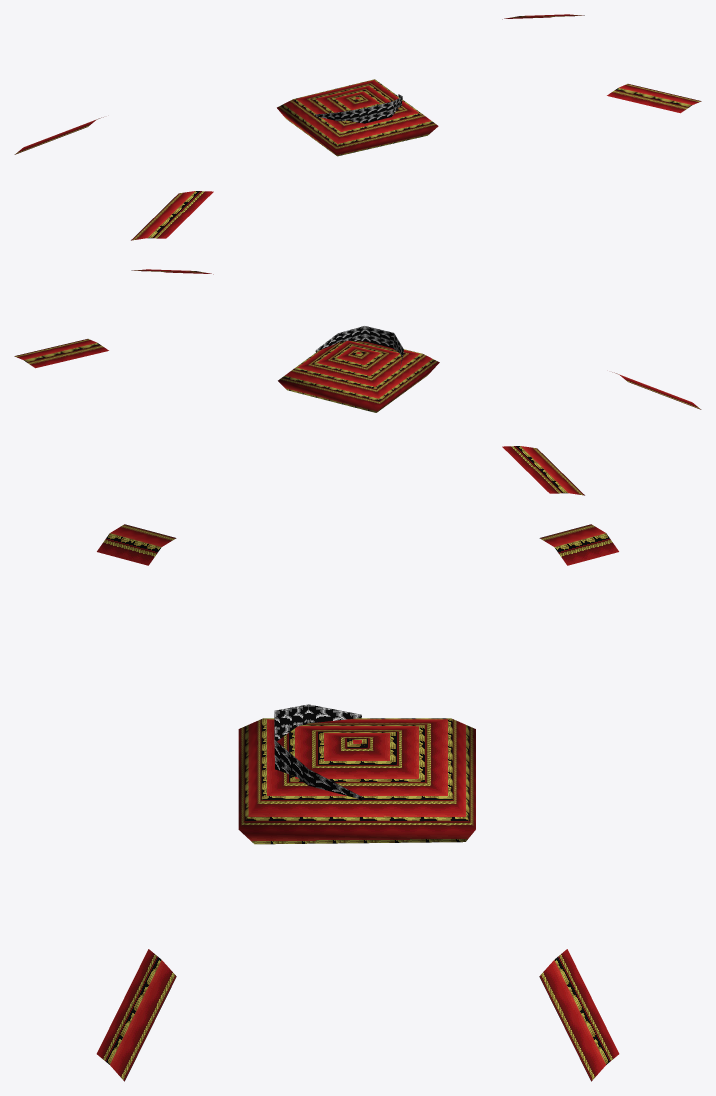
Rendered from 5333um_ac_hed5.gltf.
The picture shows the model from 3 angles, top to bottom: view 1: azimuth 30°, elevation 25°; view 2: azimuth 150°, elevation 25°; view 3: azimuth 270°, elevation 25°; orthographic projection. The views are drawn at different scales.
Visible parts, largest first — view 1: 5333um_ac_hed5; view 2: 5333um_ac_hed5; view 3: 5333um_ac_hed5.
Boxes of the visible parts, x1,y1,x2,y2 form: 5333um_ac_hed5: (14,14,701,240); 5333um_ac_hed5: (14,269,701,495); 5333um_ac_hed5: (96,524,619,1081).
Size of the model in its own units: 5.26 by 0.3518 by 2.08.
Materials: 2 (2 with a texture image).
